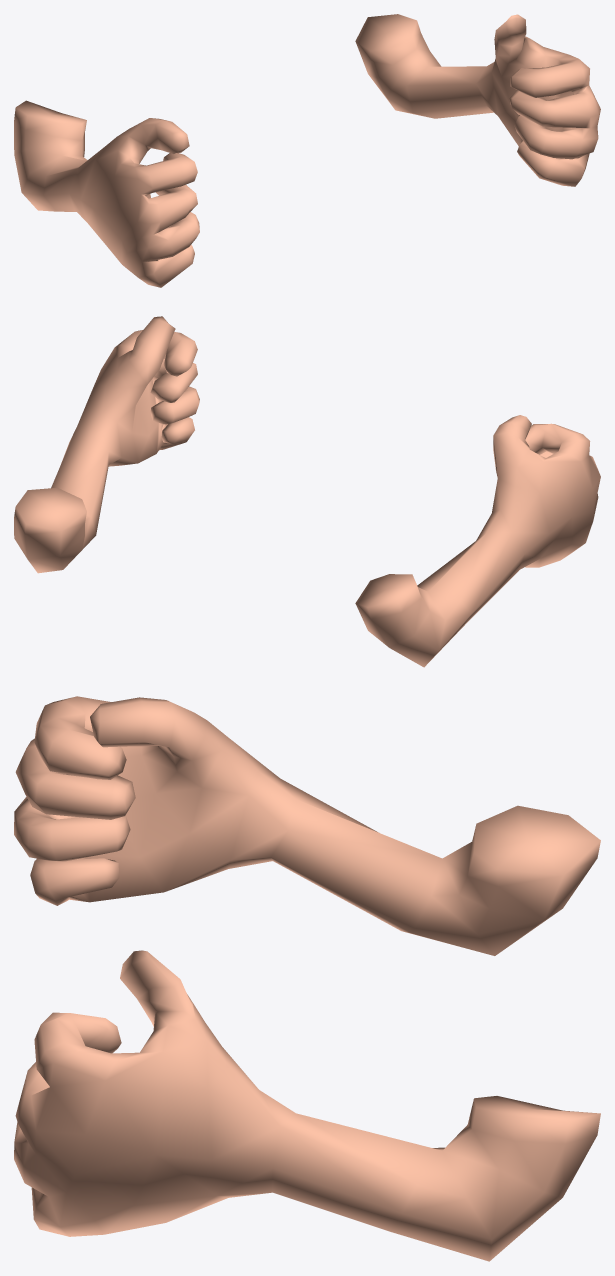
File: AF_M_Arm_15.FBX
3 views of the same model, one above another, from view 1: azimuth 30°, elevation 25°; view 2: azimuth 150°, elevation 25°; view 3: azimuth 270°, elevation 25° (orthographic). The views are drawn at different scales.
Visible parts, largest first — view 1: AF_M_Arm_15; view 2: AF_M_Arm_15; view 3: AF_M_Arm_15.
Part boxes in pixels (x1,y1,x2,y2): AF_M_Arm_15: (14,14,600,287); AF_M_Arm_15: (14,316,600,667); AF_M_Arm_15: (14,696,600,1261).
Bounding box in the file's own units: 544 × 197 × 352.
1 material, 1 textured.
